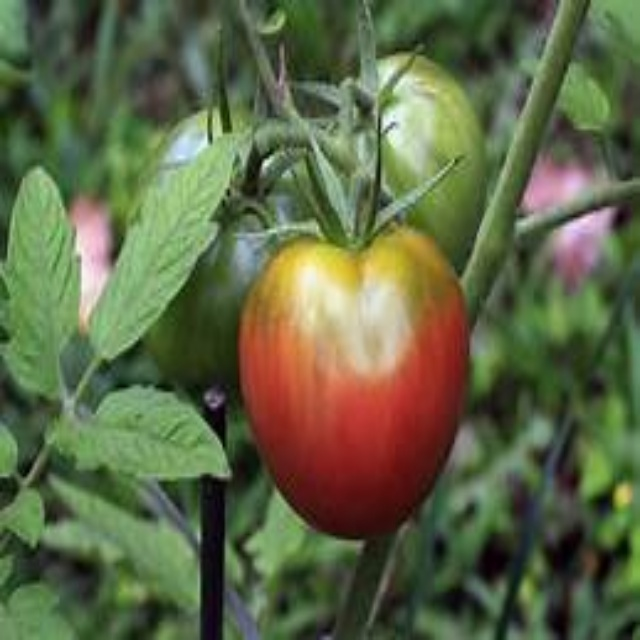tomato: (238, 243, 476, 541), (130, 110, 323, 390), (307, 72, 491, 292)
